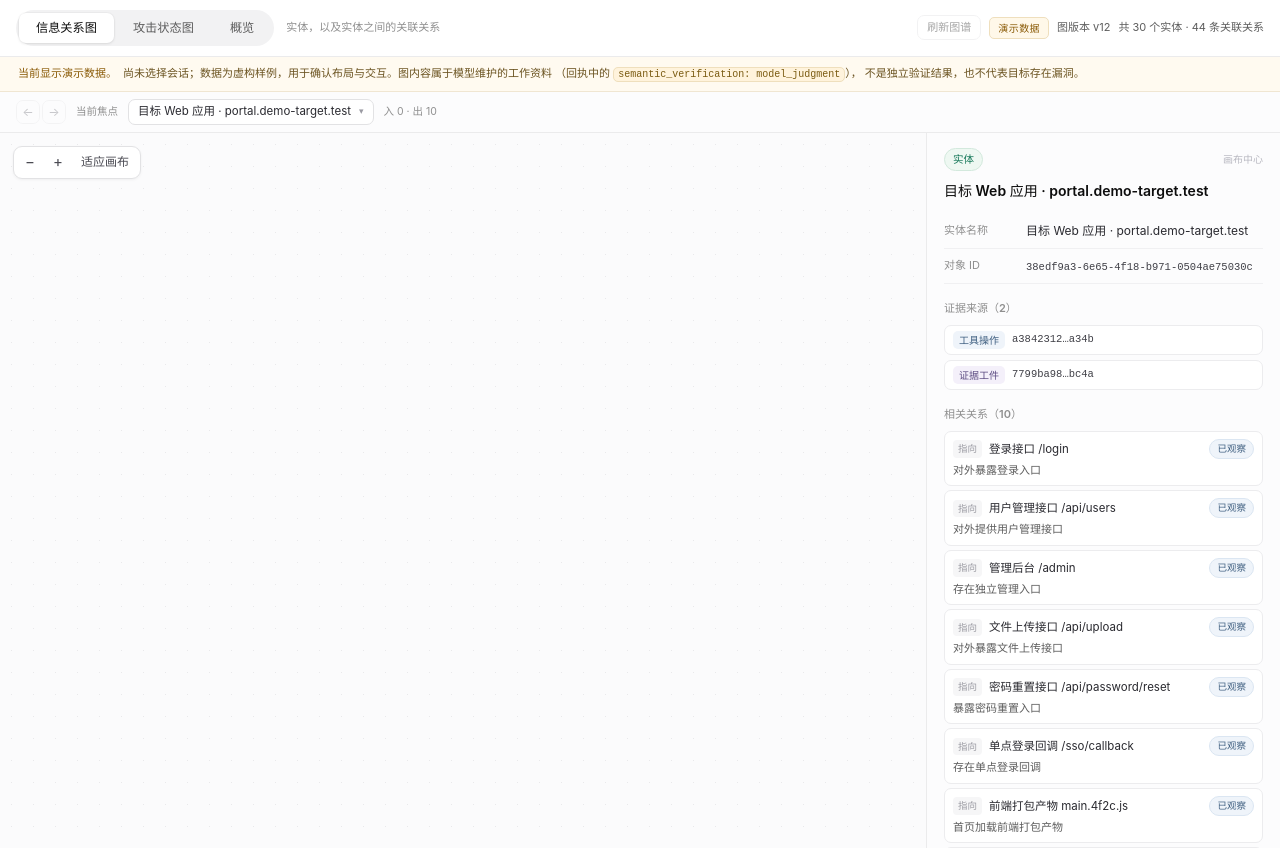
Test: 尝试详情保留 unknown 的不确定性，不写成漏洞成立
Click the tab "攻击状态图": click(163, 28) [116, 13, 211, 43]
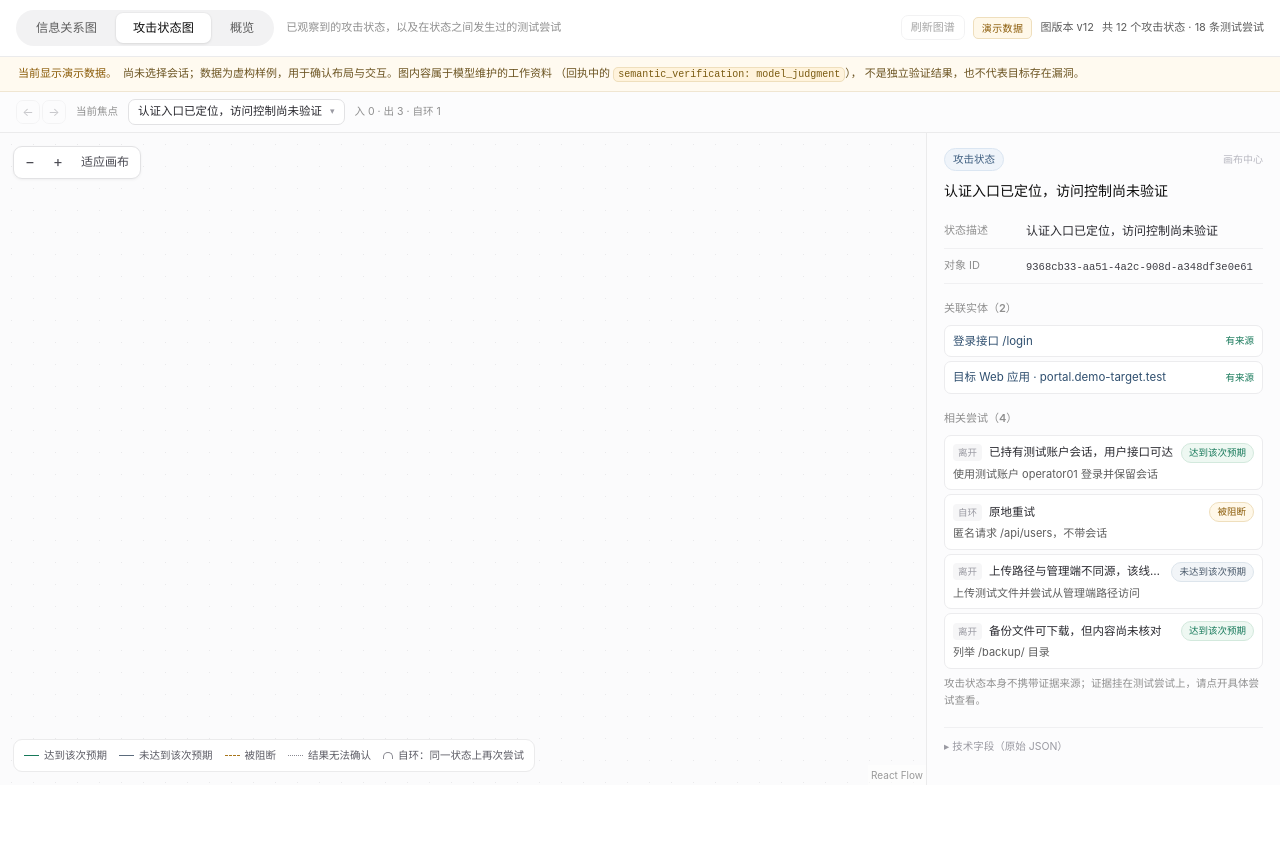
Click the button with class "gpicker-btn": click(236, 112) [128, 99, 344, 125]
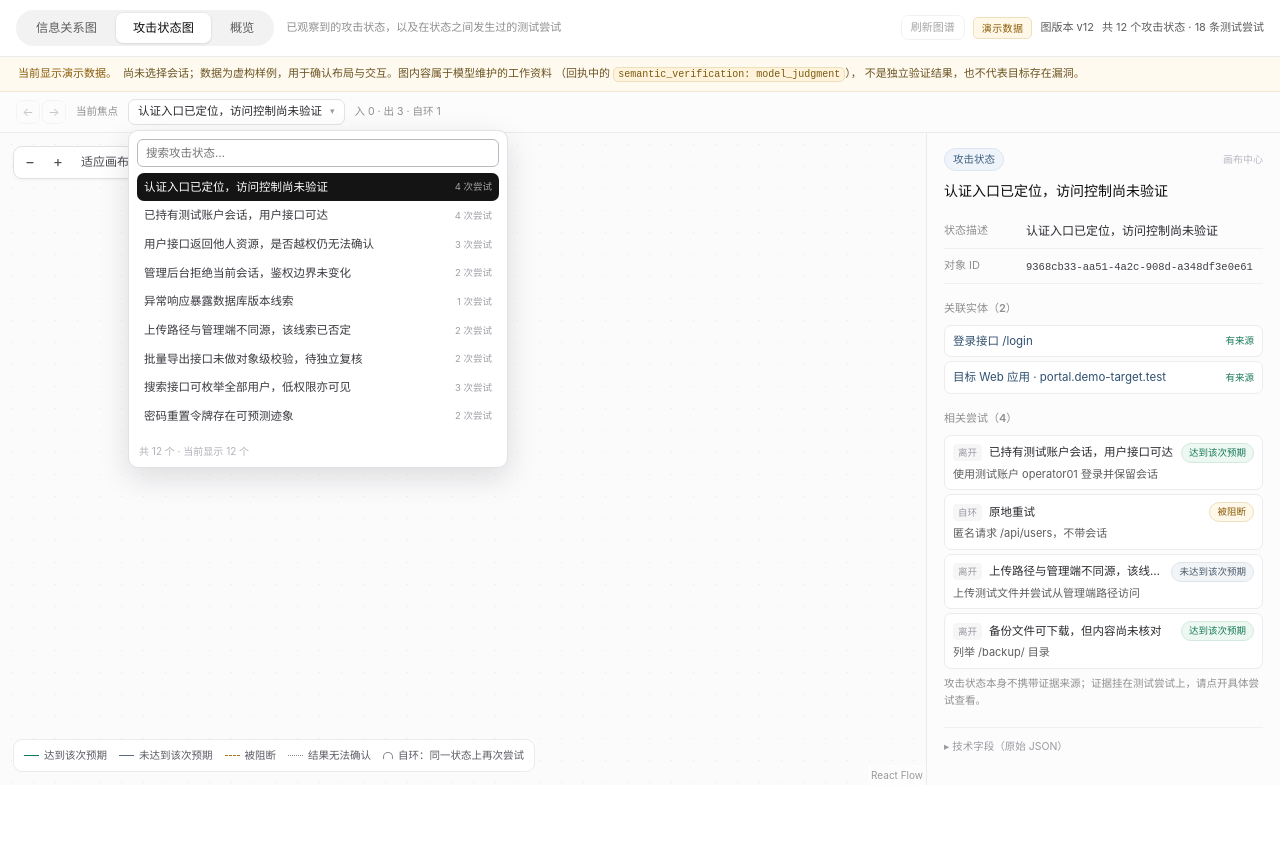
Expected: the dialog with class "gpicker-pop" is shown, [128, 130, 508, 468]
Expected: the button with class "gpicker-item" showing "已持有测试账户会话，用户接口可达 4 次尝试" is shown
Click the button with class "gpicker-item" showing "已持有测试账户会话，用户接口可达 4 次尝试": click(318, 216) [137, 201, 499, 230]
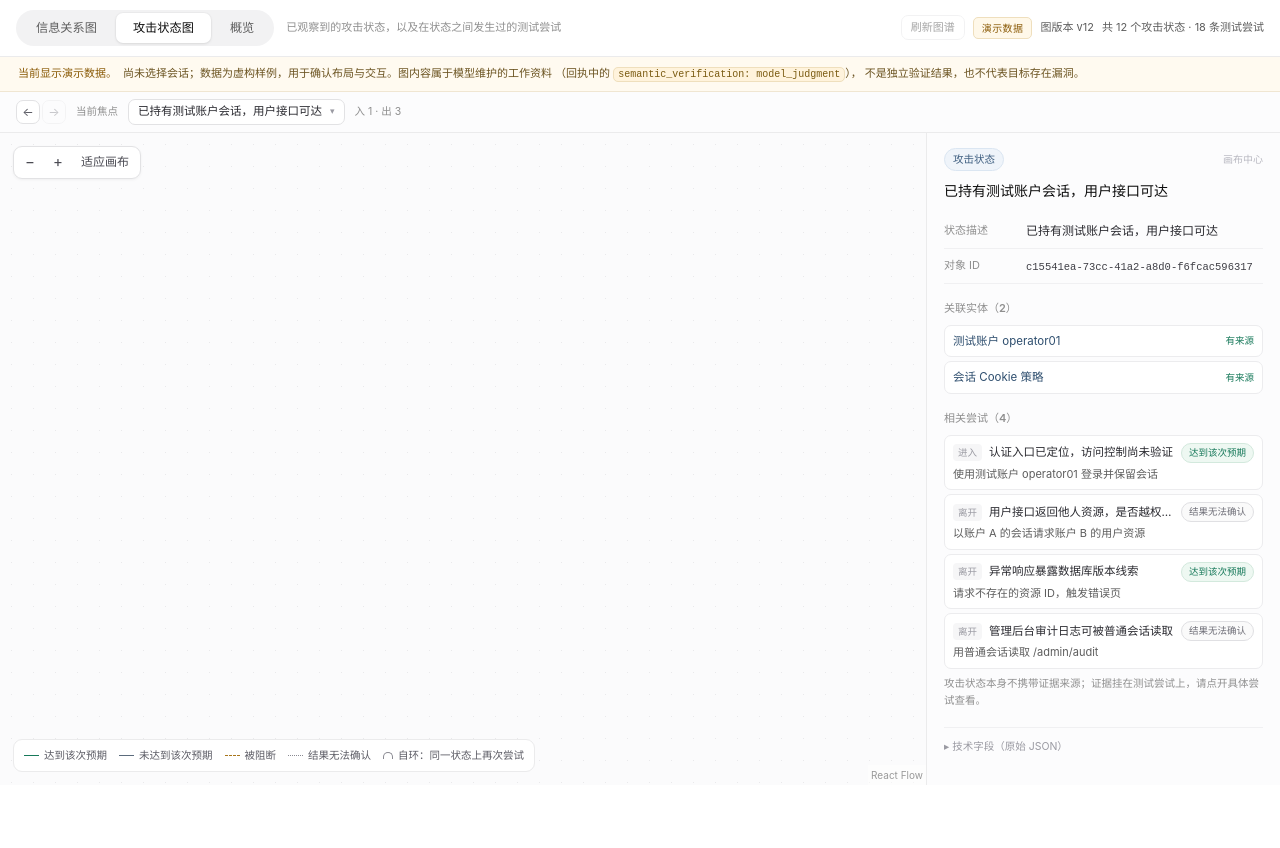
Expected: the element with class "gside" is shown, [926, 133, 1279, 785]
Expected: the button "离开 用户接口返回他人资源，是否越权仍无法确认 结果无法确认 以账户 A 的会话请求账户 B 的用户资源" is shown
Click the button "离开 用户接口返回他人资源，是否越权仍无法确认 结果无法确认 以账户 A 的会话请求账户 B 的用户资源": click(1104, 512) [944, 494, 1263, 550]
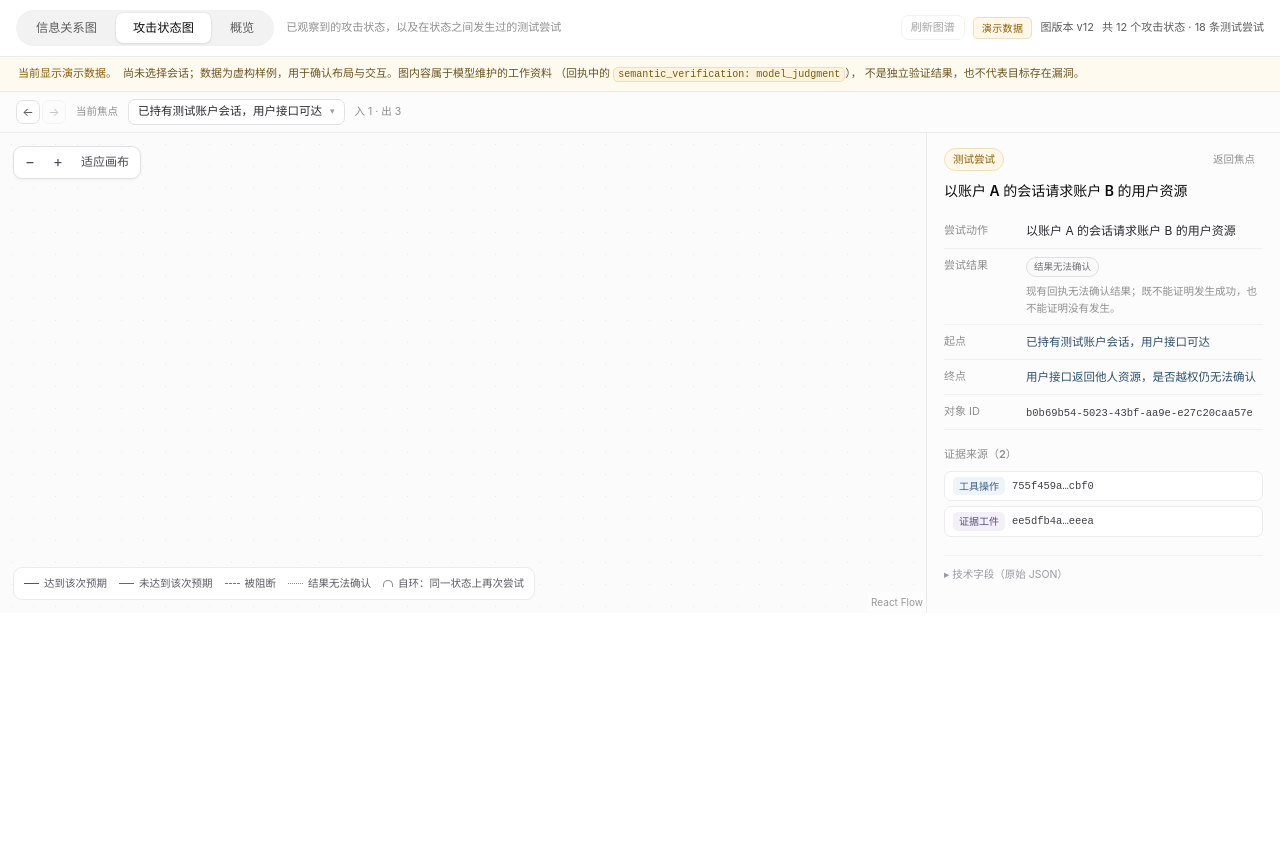
Expected: the text "结果无法确认" is shown, [1026, 257, 1099, 277]
Expected: the text "现有回执无法确认结果；既不能证明发生成功，也不能证明没有发生。" is shown, [1026, 283, 1263, 317]
